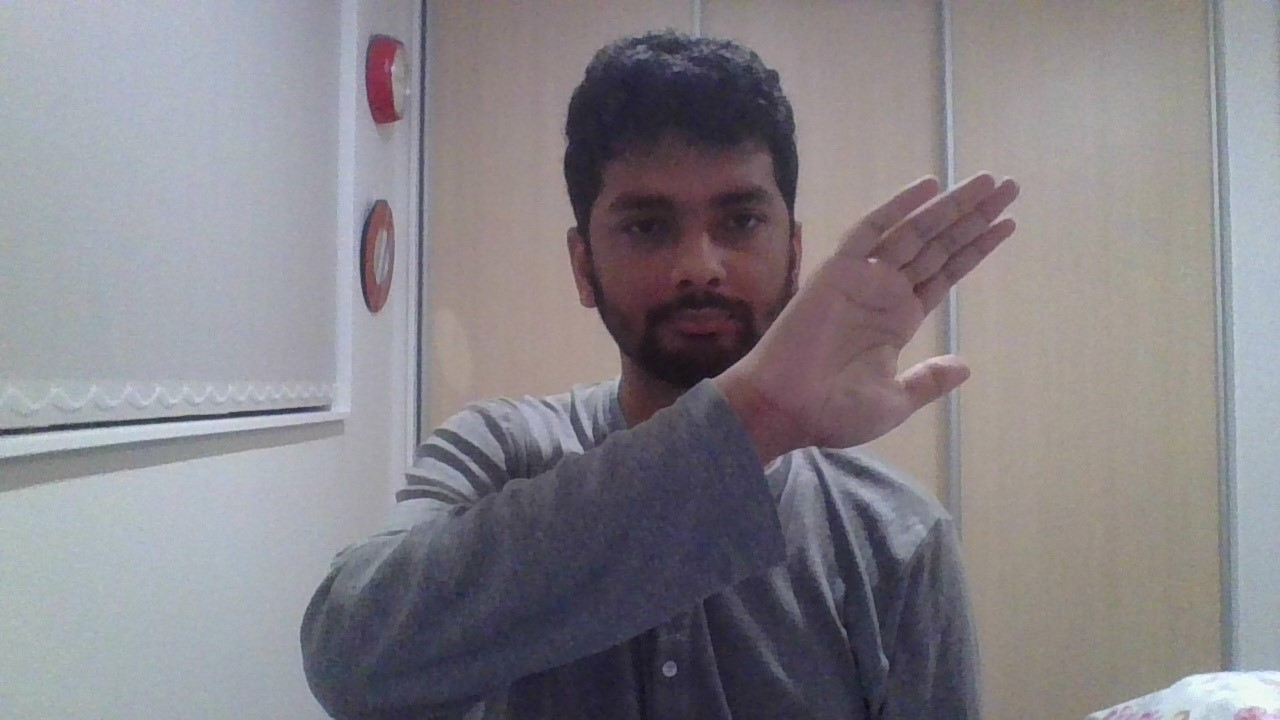hello: (745, 171, 1022, 449)
